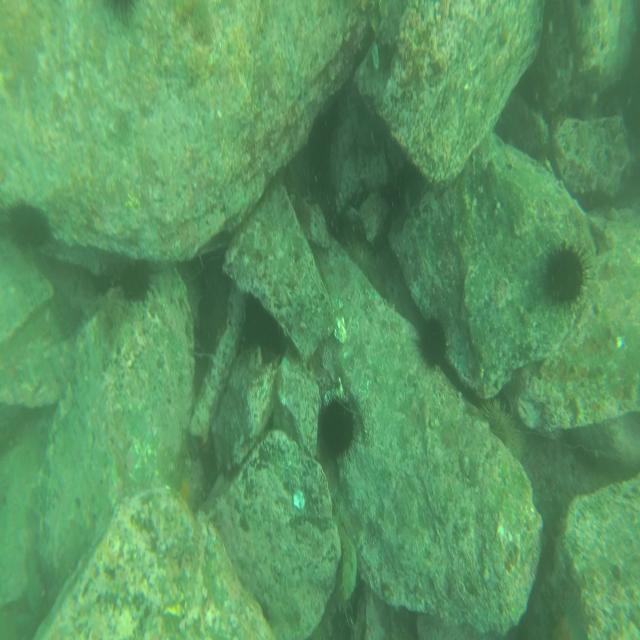echinus: (315, 394, 357, 464), (4, 201, 51, 251), (546, 246, 584, 307), (416, 317, 447, 368), (122, 258, 150, 302)
